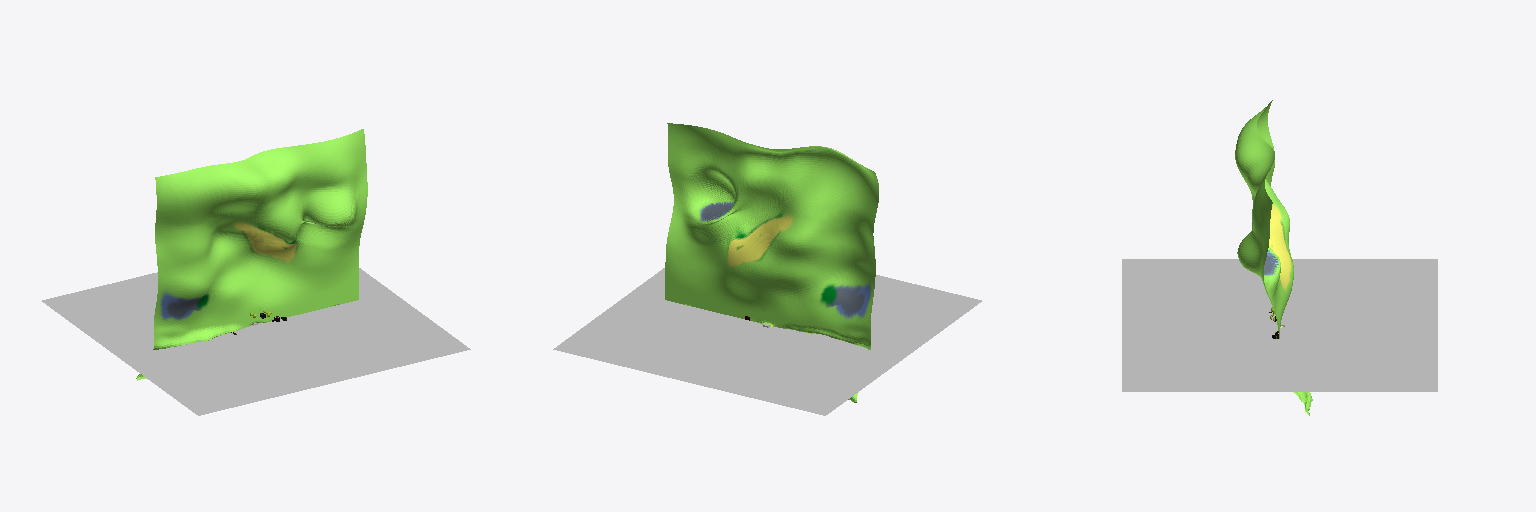
3 renders of one model, left to right at view 1: azimuth 30°, elevation 25°; view 2: azimuth 150°, elevation 25°; view 3: azimuth 270°, elevation 25°, orthographic.
Parts seen in each view (by area): view 1: terrain_Grid, Plane; view 2: terrain_Grid, Plane; view 3: Plane, terrain_Grid.
Part boxes in pixels (bbox=[...]): terrain_Grid: bbox=[136, 129, 367, 380]; Plane: bbox=[42, 268, 470, 415]; terrain_Grid: bbox=[665, 123, 878, 402]; Plane: bbox=[553, 268, 981, 415]; Plane: bbox=[1122, 259, 1437, 391]; terrain_Grid: bbox=[1235, 100, 1312, 415].
Size of the model in its own units: 1330 by 1040 by 1330.
Materials: 33 (1 with a texture image).